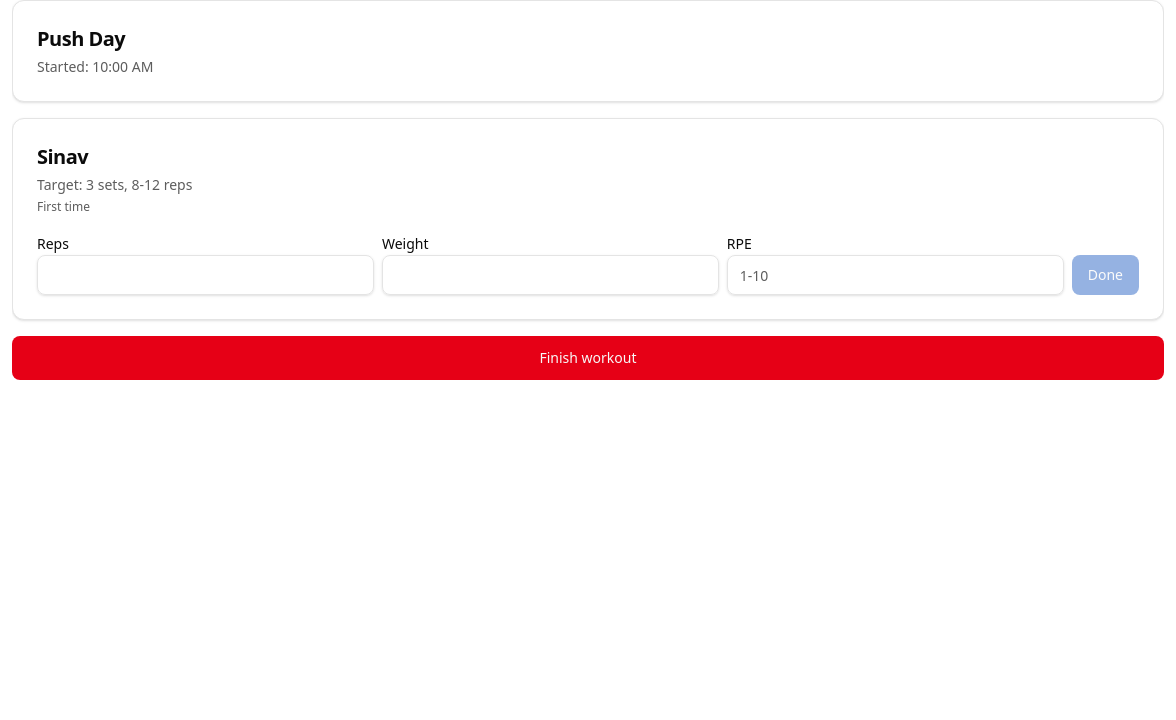
SessionClient › shows the PR celebration toast when the saved set comes back with newPr=true
The image size is (1176, 720).
Check: the button "Sinav" is shown, box [37,143,88,171]
Type "10" into the number field labelled "Reps" at [205, 275], box [37,255,374,295]
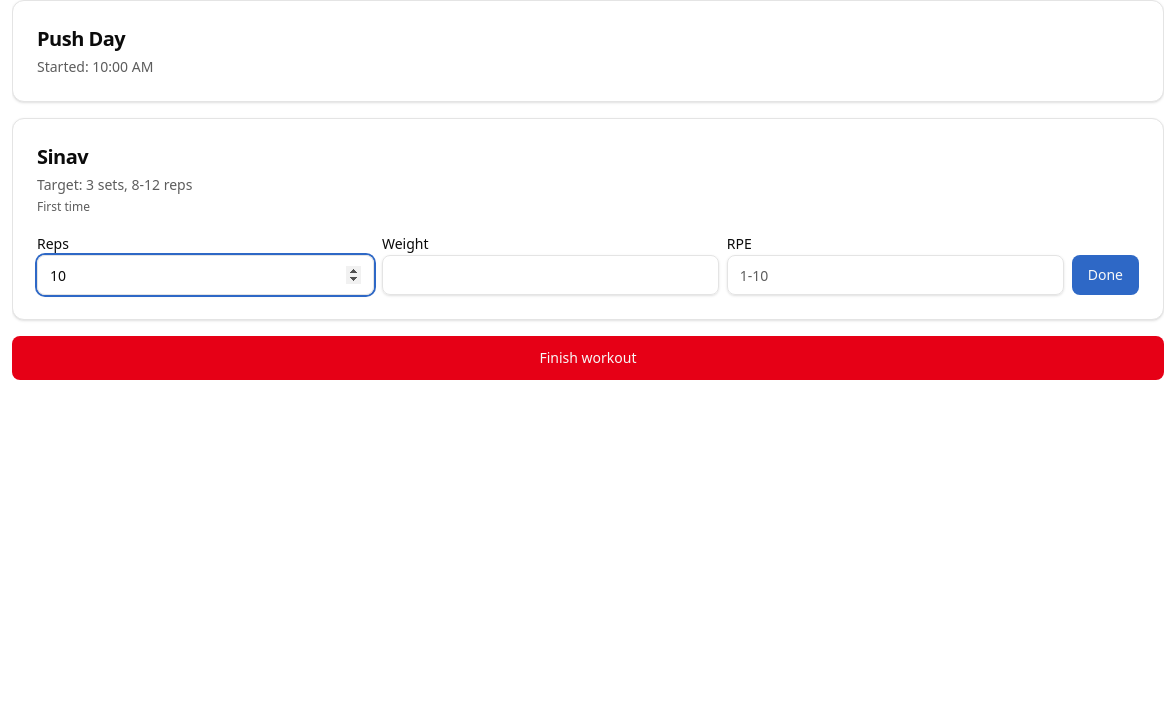
Type "50" into the number field labelled "Weight" at [550, 275], box [382,255,719,295]
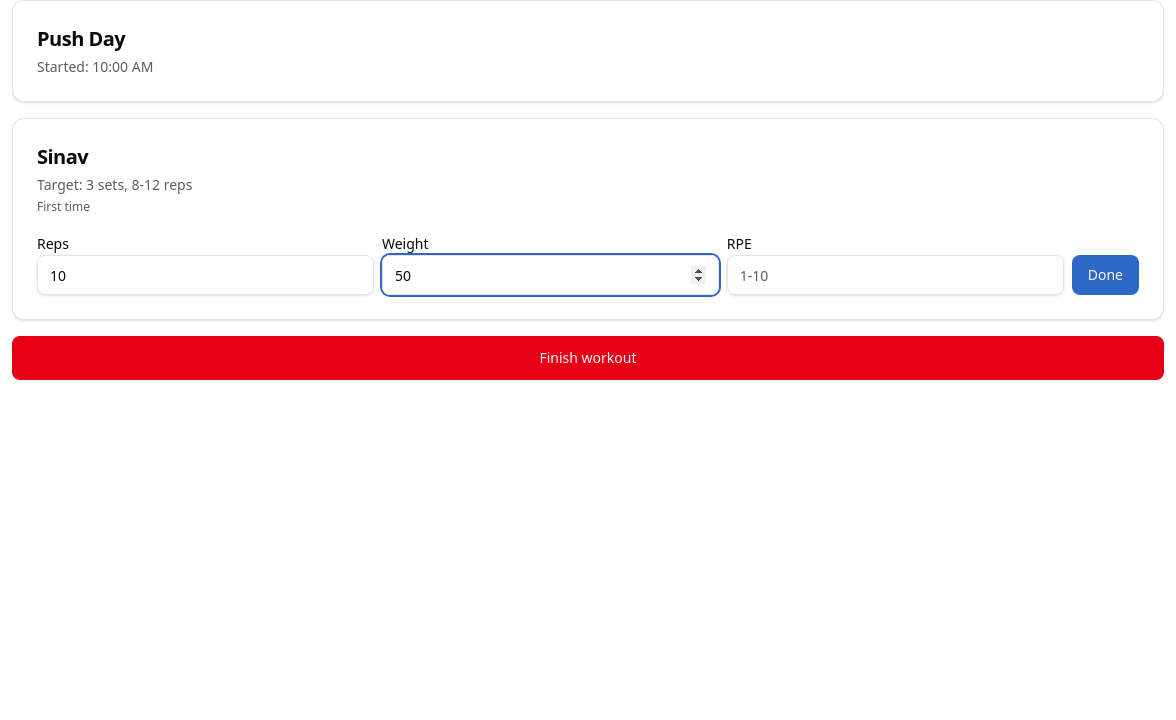
Click the button "Done" at [1105, 275], box [1072,255,1139,295]
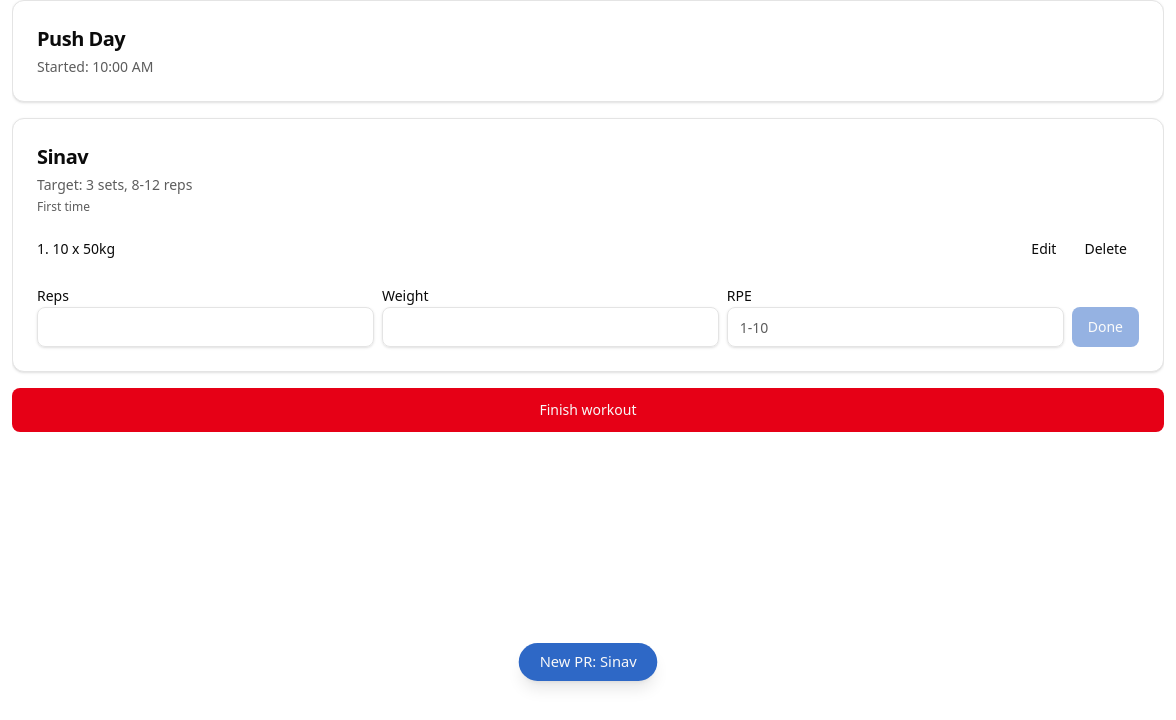
Check: the message "New PR: Sinav" is shown, box [518,643,658,681]
